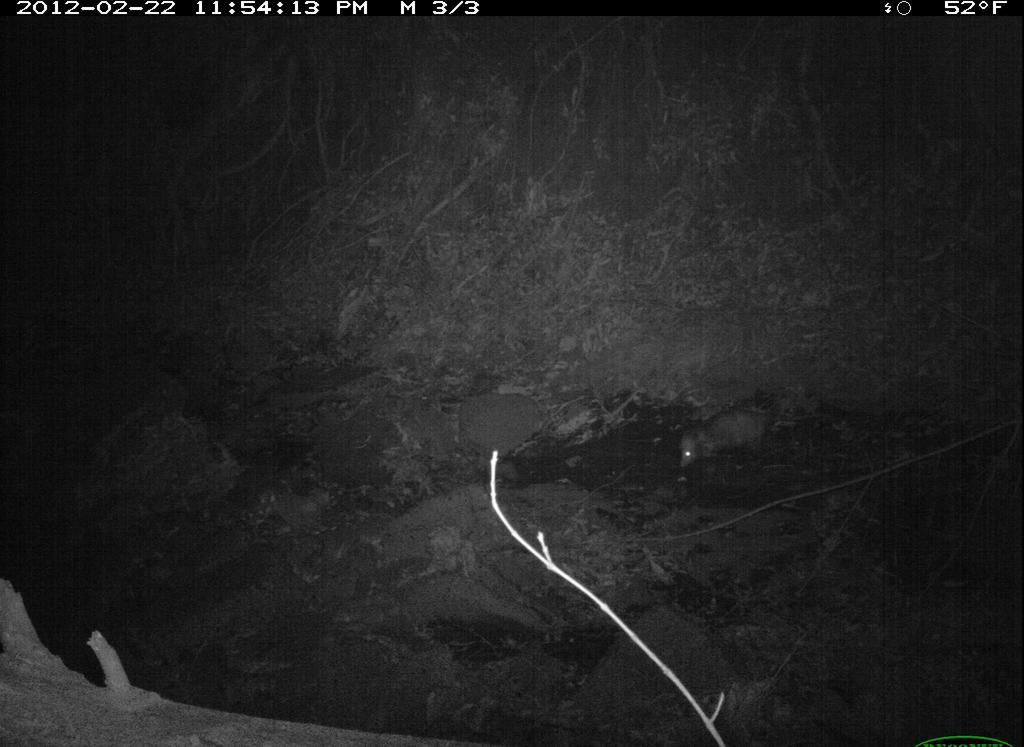opossum: (671, 388, 820, 474)
